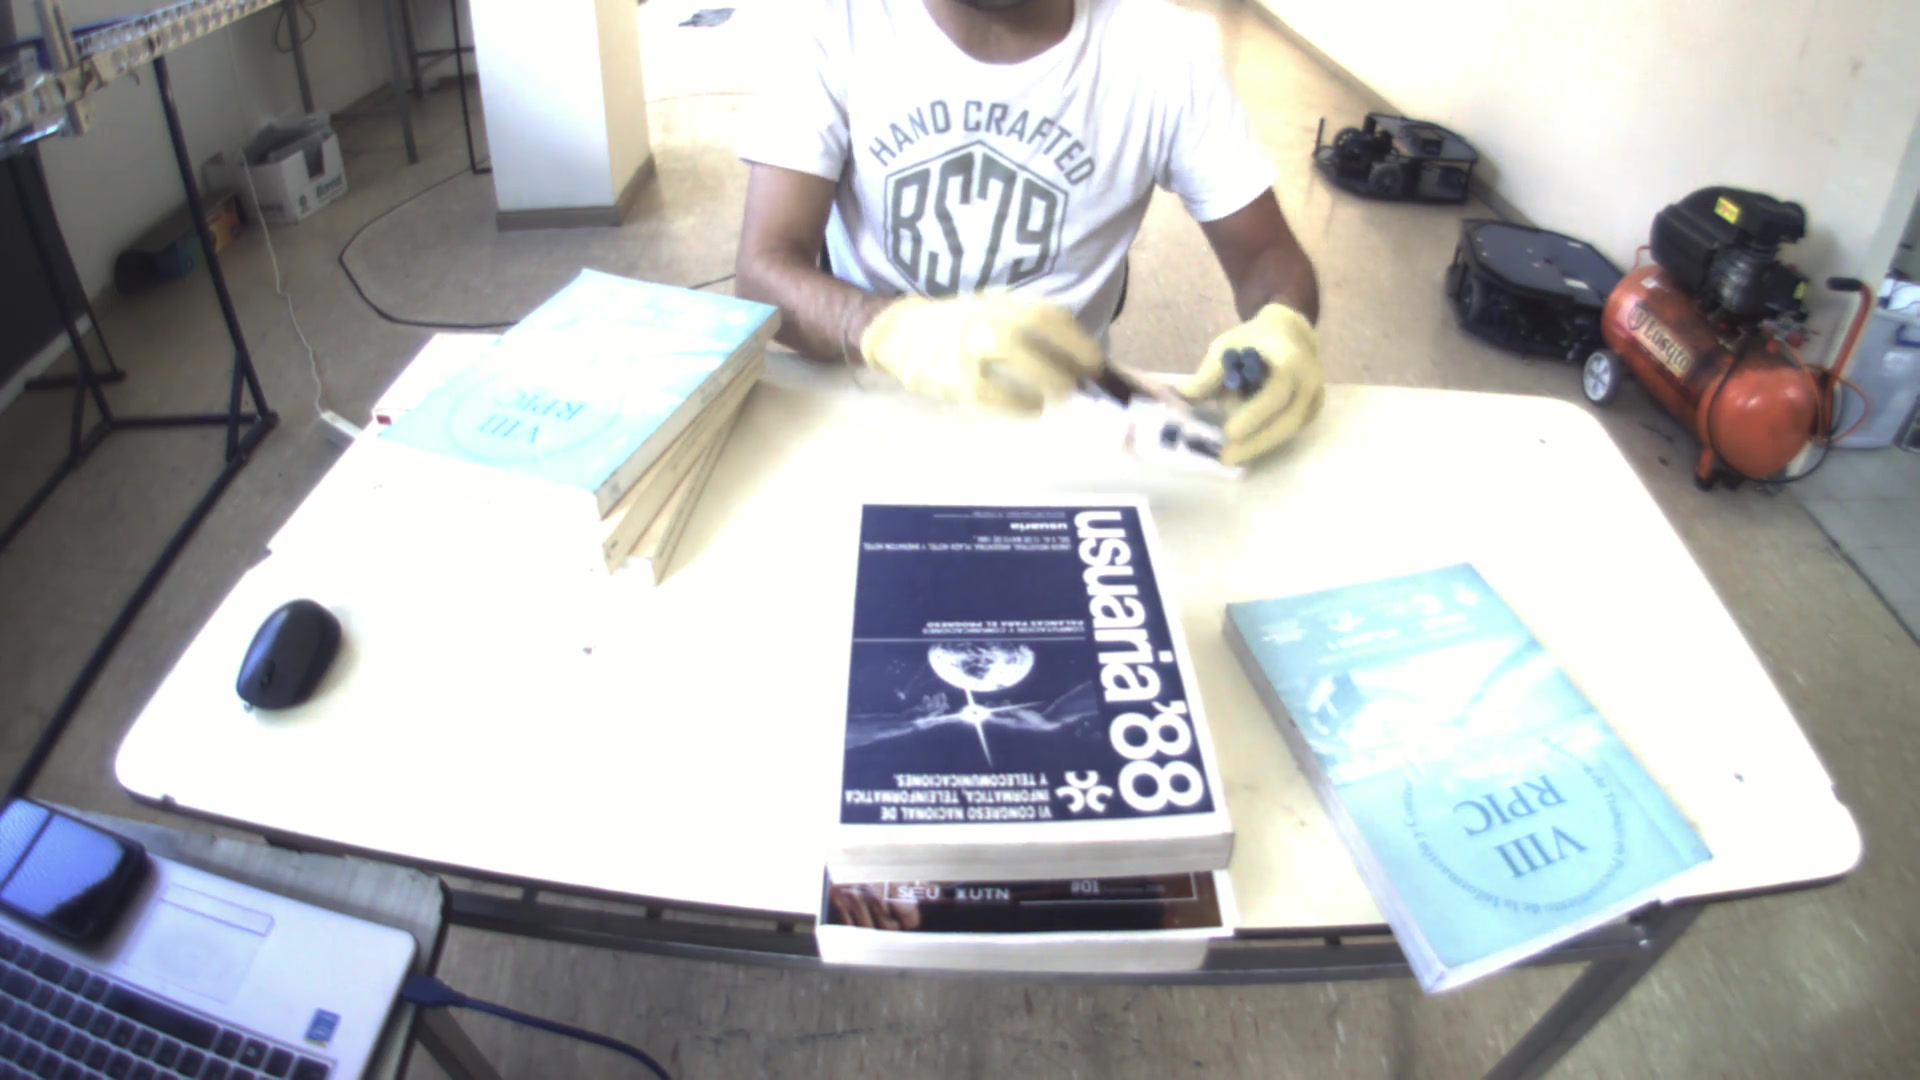hand: (847, 276, 1109, 415), (1175, 294, 1346, 472)
